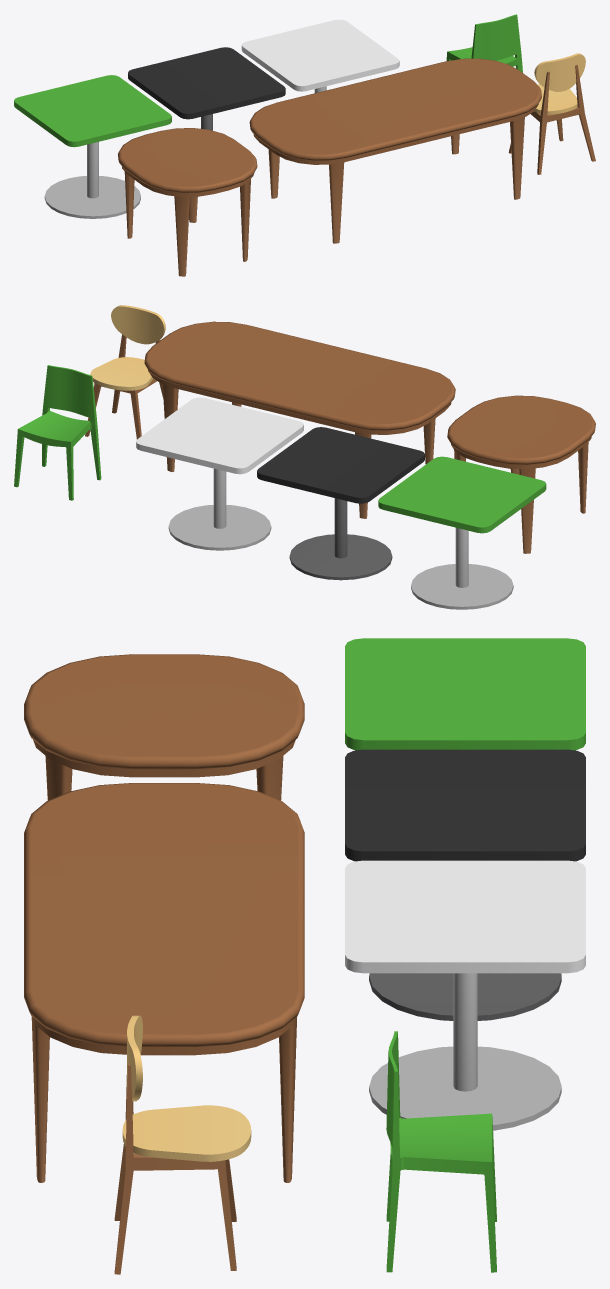
Rendered from table.fbx.
3 views of the same model, one above another, from view 1: azimuth 30°, elevation 25°; view 2: azimuth 150°, elevation 25°; view 3: azimuth 270°, elevation 25° (orthographic). The views are drawn at different scales.
Parts seen in each view (by area): view 1: table_1_Long, table_2_Variant, table_1_Small, table_2_Black, table_2_White, chair_1, chair_2; view 2: table_1_Long, table_2_Variant, table_2_White, table_2_Black, table_1_Small, chair_2, chair_1; view 3: table_1_Long, table_2_White, table_2_Black, table_1_Small, table_2_Variant, chair_1, chair_2.
Part boxes in pixels (left/top/right/bottom): table_1_Long: left=249, top=58, right=541, bottom=243; table_2_Variant: left=14, top=75, right=171, bottom=218; table_1_Small: left=118, top=128, right=257, bottom=276; table_2_Black: left=128, top=47, right=285, bottom=176; table_2_White: left=241, top=19, right=399, bottom=92; chair_1: left=508, top=53, right=595, bottom=174; chair_2: left=446, top=14, right=522, bottom=72; table_1_Long: left=144, top=321, right=455, bottom=518; table_2_Variant: left=378, top=456, right=546, bottom=609; table_2_White: left=136, top=397, right=303, bottom=550; table_2_Black: left=257, top=427, right=424, bottom=580; table_1_Small: left=447, top=395, right=595, bottom=553; chair_2: left=14, top=365, right=101, bottom=500; chair_1: left=85, top=305, right=165, bottom=439; table_1_Long: left=24, top=783, right=304, bottom=1182; table_2_White: left=345, top=860, right=585, bottom=1130; table_2_Black: left=345, top=749, right=585, bottom=1020; table_1_Small: left=24, top=654, right=304, bottom=800; table_2_Variant: left=345, top=638, right=585, bottom=750; chair_1: left=114, top=1015, right=251, bottom=1274; chair_2: left=386, top=1031, right=496, bottom=1272.
Bounding box in the file's own units: 17.93 × 9.33 × 3.92.
